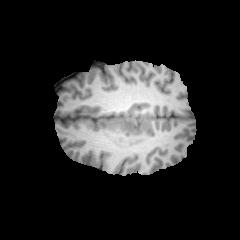glioma: (102, 116, 152, 148)
